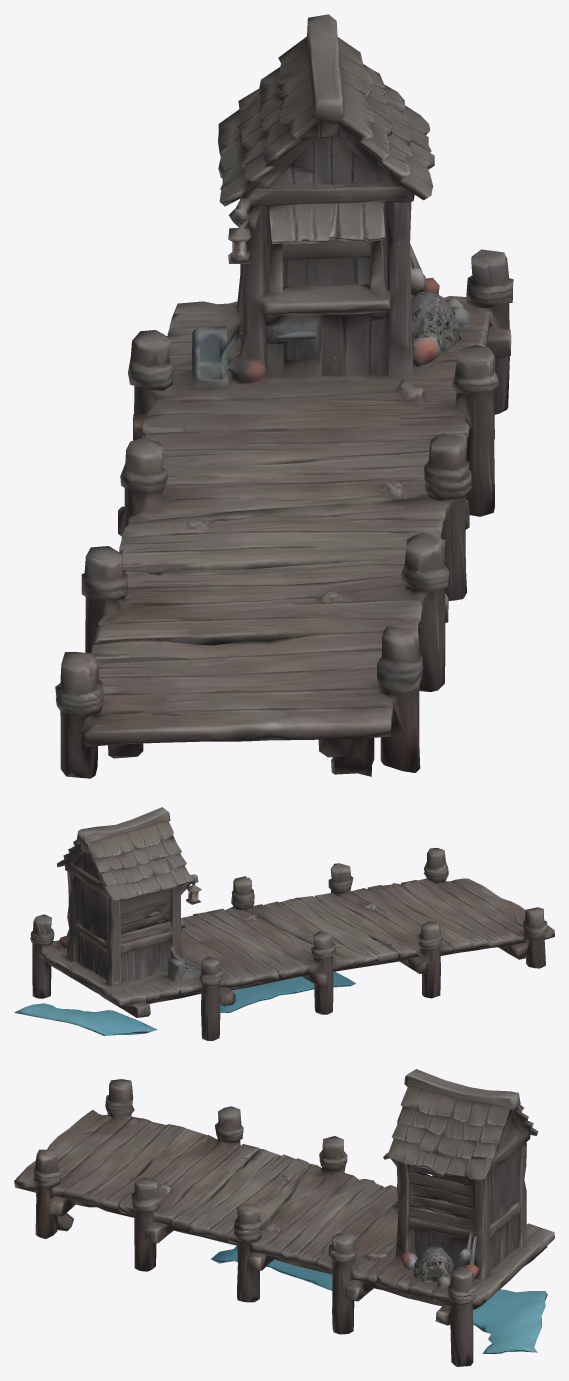
Rendered from fishing_jetty_main.glb.
The picture shows the model from 3 angles, top to bottom: view 1: azimuth 30°, elevation 25°; view 2: azimuth 150°, elevation 25°; view 3: azimuth 270°, elevation 25°; orthographic projection. The views are drawn at different scales.
Visible parts, largest first — view 1: tripo_node_09a7e75f-65bd-450f-bbdb-e95d4e779794; view 2: tripo_node_09a7e75f-65bd-450f-bbdb-e95d4e779794; view 3: tripo_node_09a7e75f-65bd-450f-bbdb-e95d4e779794.
Boxes of the visible parts, left/top/right/bottom form: tripo_node_09a7e75f-65bd-450f-bbdb-e95d4e779794: left=55, top=14, right=513, bottom=778; tripo_node_09a7e75f-65bd-450f-bbdb-e95d4e779794: left=14, top=807, right=554, bottom=1040; tripo_node_09a7e75f-65bd-450f-bbdb-e95d4e779794: left=14, top=1069, right=554, bottom=1366.
Size of the model in its own units: 0.9401 by 0.48 by 1.
1 material, 1 textured.
